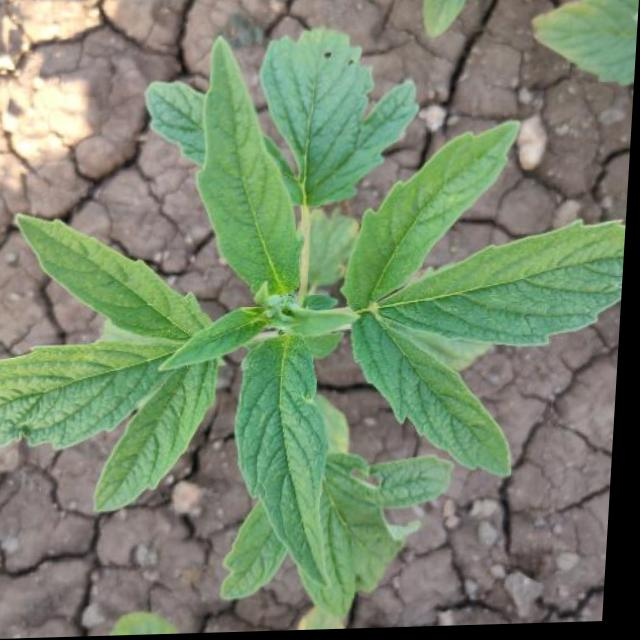crop: (4, 37, 635, 602)
